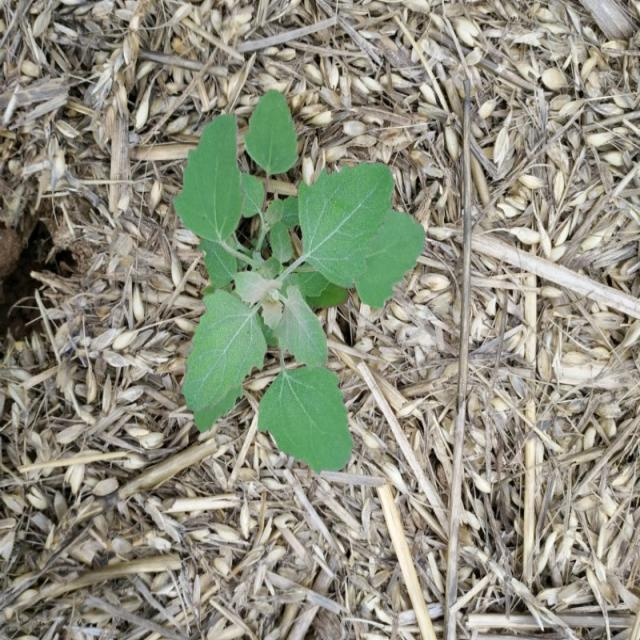goosefoots: (162, 80, 427, 450)
